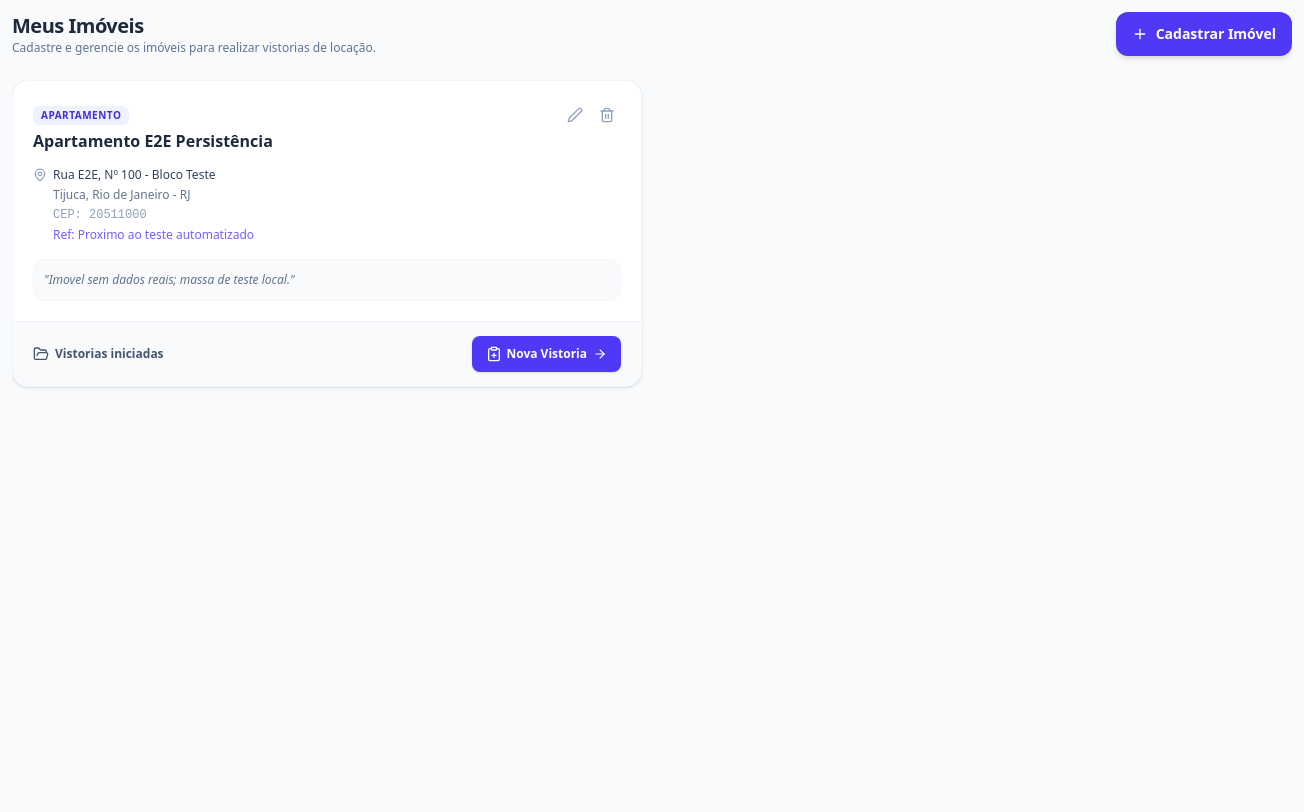
Test: PropertyManager Component Tests › opens property creation form when clicking the creation button
Expected: the heading "Meus Imóveis" is shown, x1=12 y1=12 x2=144 y2=39
Click the button "Cadastrar Imóvel" at {"x": 1204, "y": 34}, box x1=1116 y1=12 x2=1292 y2=56
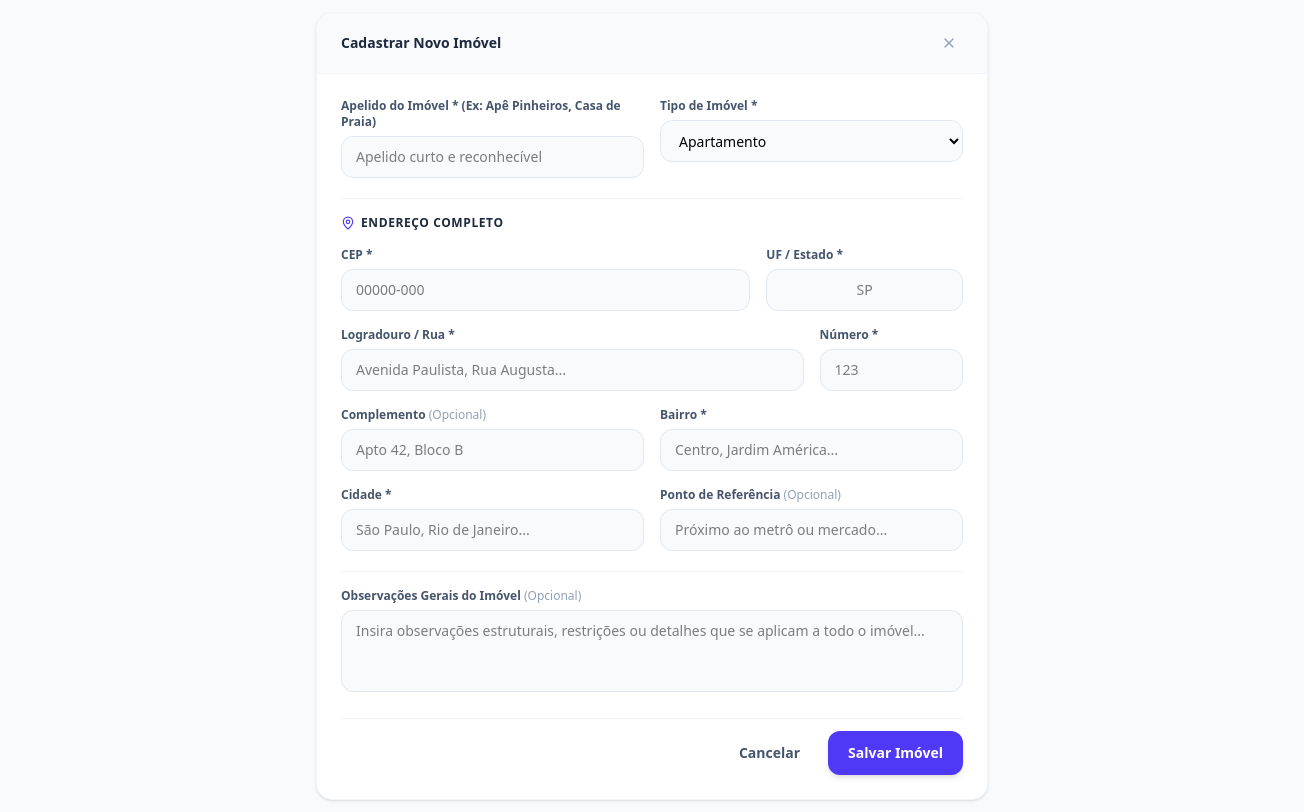
Result: the field with placeholder "Apelido curto e reconhecível" is shown at x1=341 y1=136 x2=644 y2=178
Result: the field with placeholder "Avenida Paulista, Rua Augusta..." is shown at x1=341 y1=349 x2=804 y2=391
